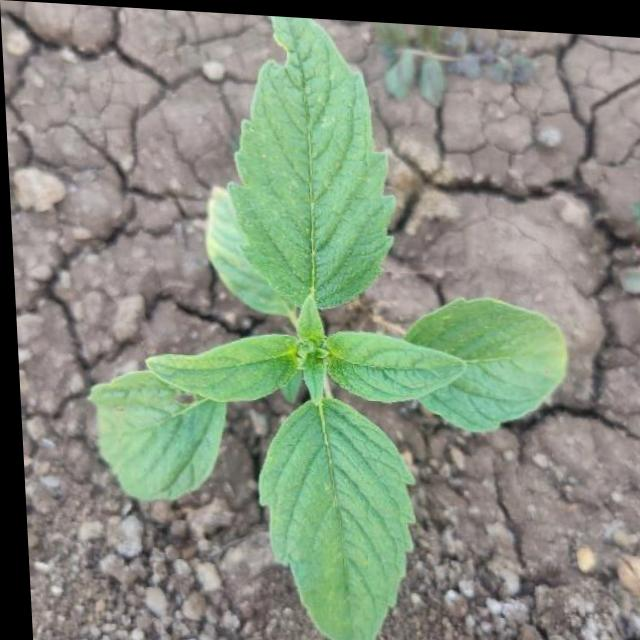crop: (60, 8, 580, 640)
